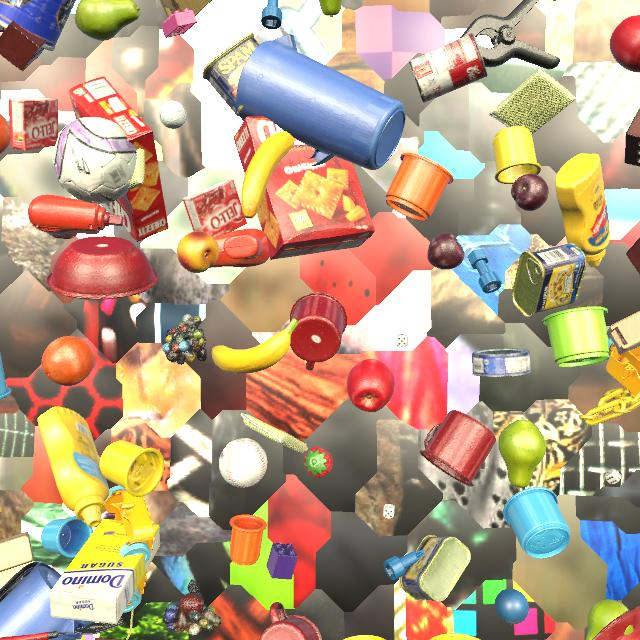ycb_002_master_chef_can: (0, 0, 76, 51)
ycb_003_cracker_box: (234, 116, 375, 260), (69, 76, 169, 242)
ycb_004_sugar_box: (49, 519, 160, 624), (553, 0, 556, 1)
ycb_005_tomato_soup_can: (408, 33, 487, 103)
ycb_006_mustard_bottle: (37, 406, 110, 527), (555, 153, 610, 267)
ycb_007_tuna_fish_can: (472, 348, 531, 377)
ycb_008_pudding_box: (0, 26, 5, 32)
ycb_009_gelatin_box: (182, 180, 247, 238), (9, 97, 58, 151)
ycb_010_potted_meat_can: (512, 243, 587, 317), (399, 535, 471, 602), (202, 33, 260, 116)
ycb_011_banana: (212, 318, 299, 374), (241, 131, 294, 219)
ycb_012_strawberry: (304, 446, 333, 478)
ycb_013_apple: (346, 359, 395, 412), (610, 15, 640, 72)
ycb_015_peach: (177, 231, 219, 273)
ycb_016_pear: (498, 419, 546, 489), (75, 0, 140, 41), (586, 599, 633, 640), (319, 0, 342, 17)
ycb_017_orange: (41, 336, 95, 386), (0, 114, 10, 154)
ycb_018_plum: (511, 174, 549, 211), (427, 233, 465, 270)
